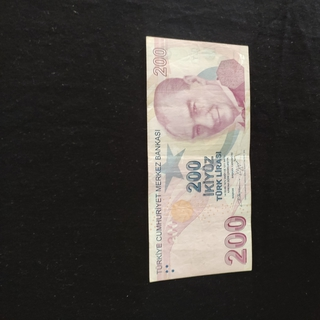200TLFront: (145, 35, 252, 283)
